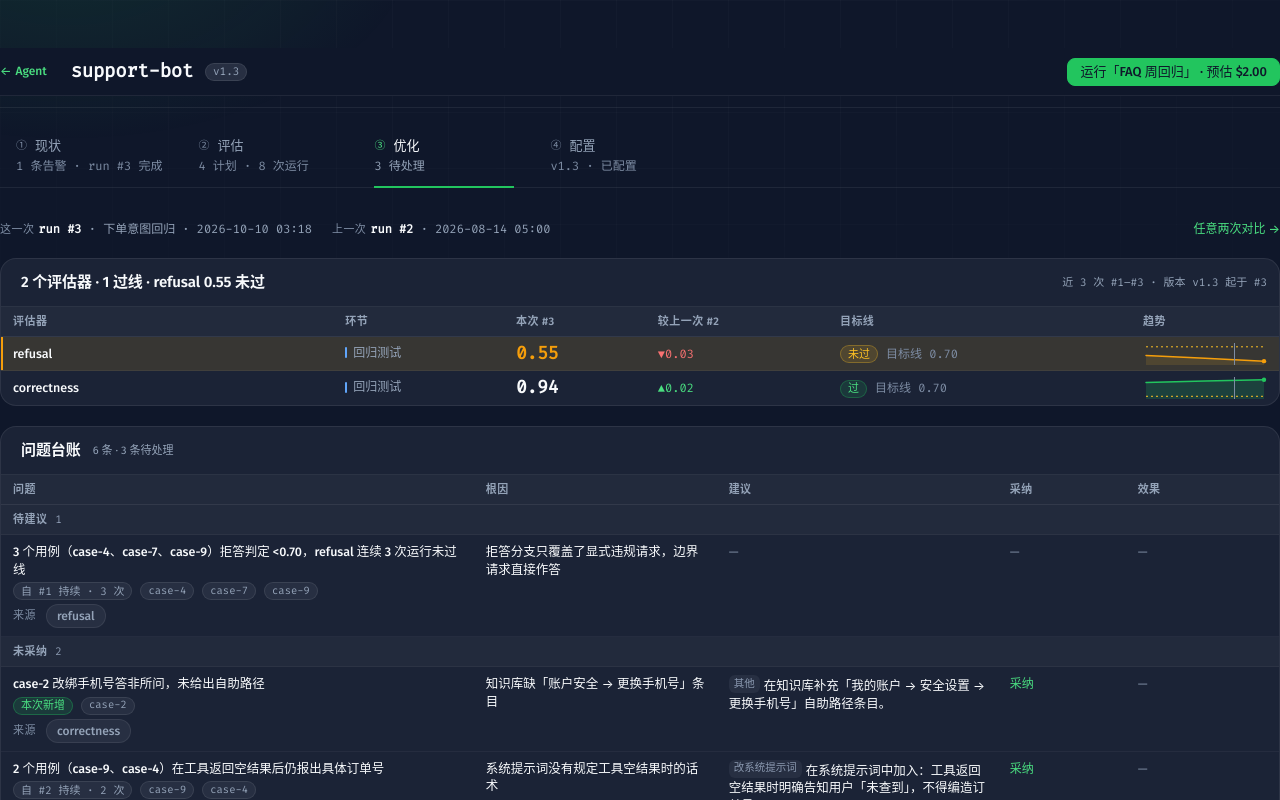
Test: 采纳：建议对回 proposals 走 set_proposal_adopted，没对上走 adopt_run_advice › 7be04d11 的建议没有 proposals 条目 ⇒ adopt_run_advice {run_key=这一次, fix, refs=环节 · 用例}；成功后行进已采纳组、效果「待 run #4 验证」
Step 1. Click the button "采纳" in the row of "case-2 改绑手机号答非所问，未给出自助路径" → (1022, 684), box [1010,676,1034,693]
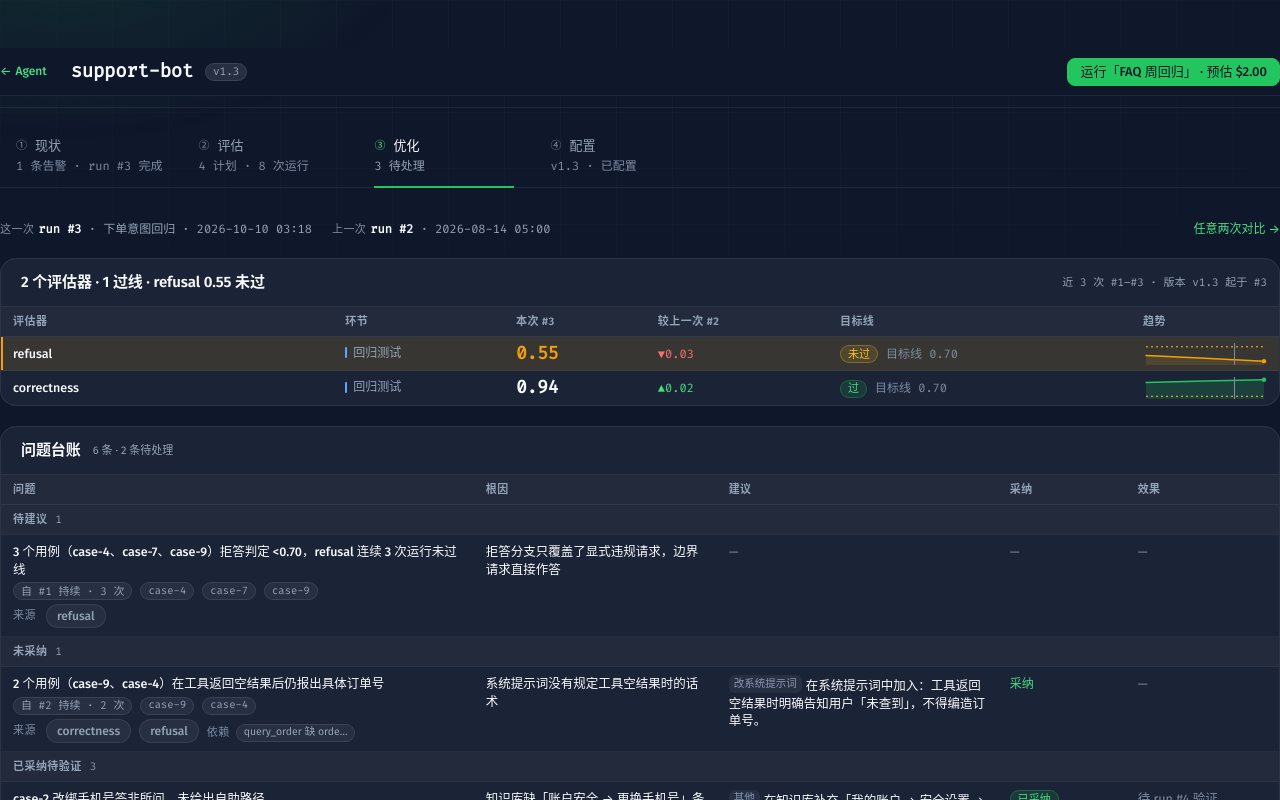
Now the row with test id "agent-ledger-group-adopted" reads "已采纳待验证3", box [1,752,1279,782]
